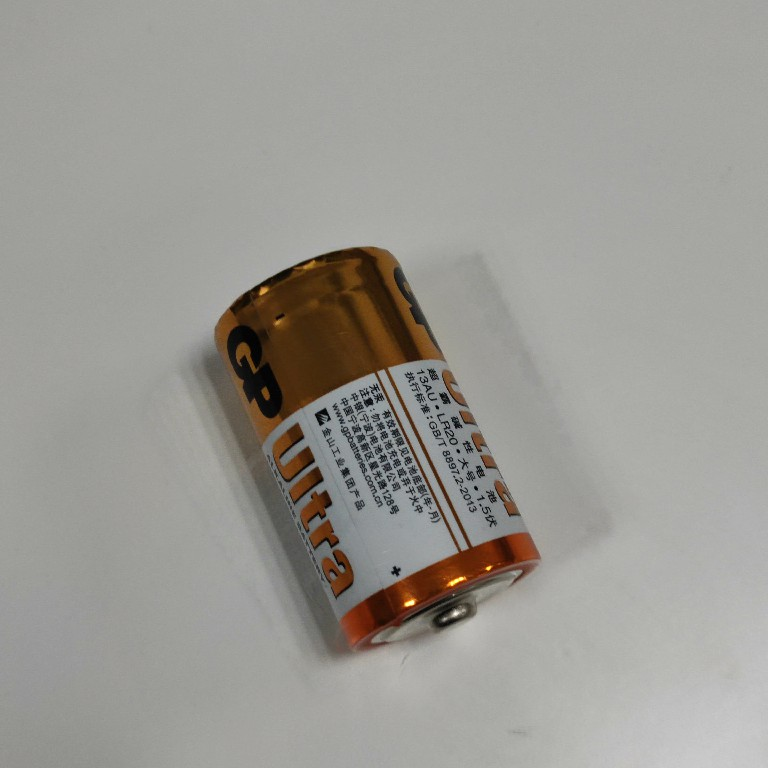charge: (207, 242, 547, 659)
